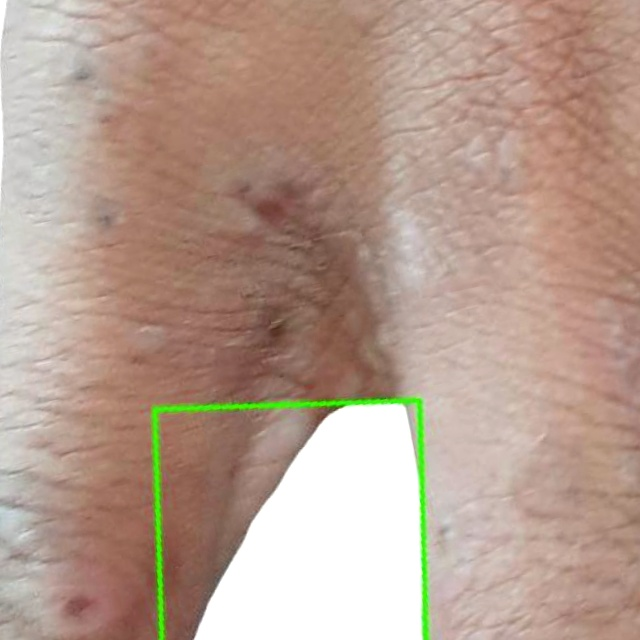Scabies: (154, 401, 426, 639)
